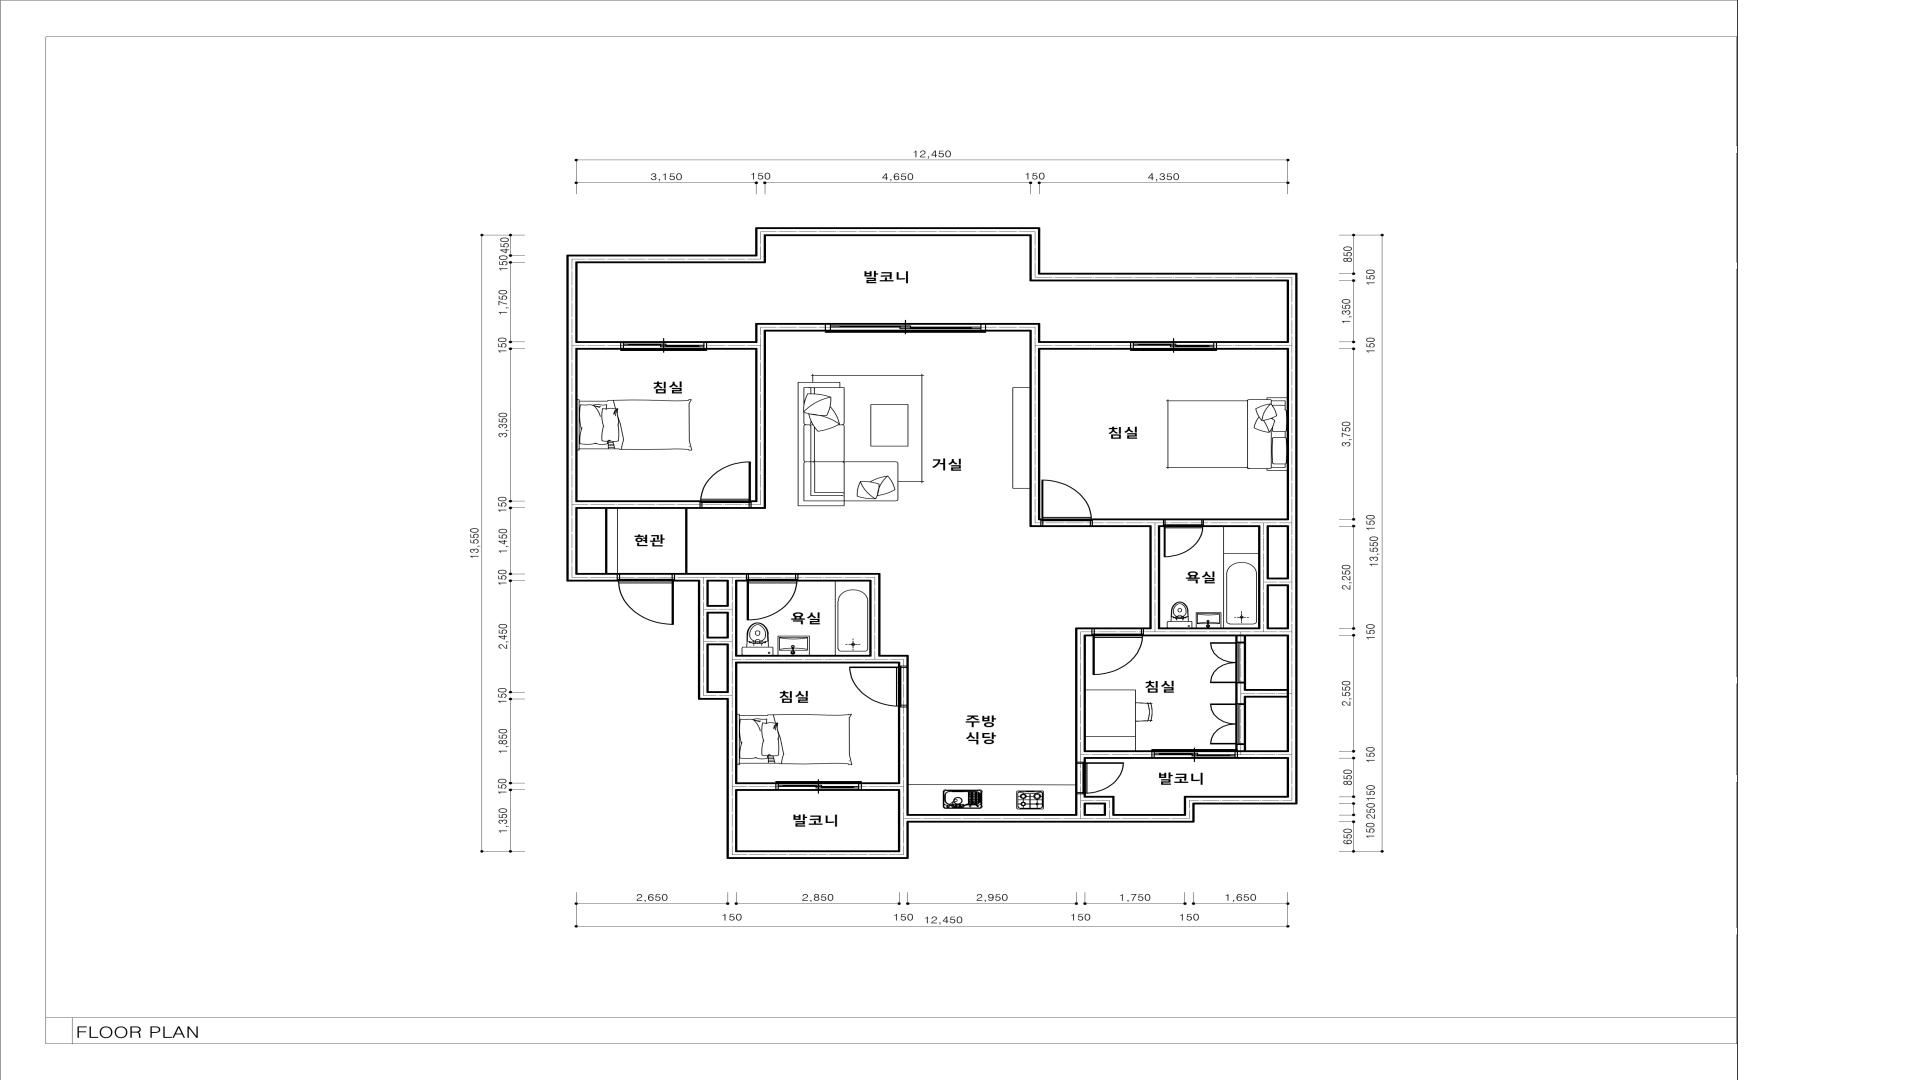door: (618, 573, 674, 625), (849, 666, 909, 707), (700, 461, 751, 509), (1092, 627, 1143, 675), (747, 573, 798, 620), (1041, 480, 1092, 527), (1075, 762, 1124, 794), (1164, 518, 1203, 557), (1209, 642, 1246, 683), (1210, 703, 1246, 745), (1131, 341, 1216, 351)
wall: (1287, 281, 1298, 804), (566, 263, 578, 573), (898, 814, 1184, 823), (766, 227, 1040, 236), (1029, 331, 1041, 527), (1040, 273, 1297, 281), (755, 332, 766, 500), (566, 255, 766, 263), (727, 691, 737, 850), (726, 850, 898, 859), (737, 655, 898, 664), (1075, 636, 1086, 762), (698, 573, 709, 691), (1143, 627, 1287, 636), (898, 707, 909, 814), (578, 500, 701, 509), (1258, 527, 1269, 627), (1149, 527, 1160, 627), (727, 582, 737, 691), (869, 582, 881, 655), (1184, 796, 1287, 804), (1040, 341, 1131, 350), (1203, 518, 1287, 527), (798, 573, 881, 582), (1092, 518, 1164, 527), (755, 323, 826, 332), (1216, 341, 1287, 350), (1086, 750, 1152, 759), (1029, 236, 1040, 281), (985, 323, 1040, 332), (566, 573, 618, 582), (1237, 750, 1287, 759), (706, 341, 755, 350), (898, 823, 909, 859), (578, 341, 621, 350), (1246, 689, 1287, 698), (737, 782, 776, 791), (709, 573, 747, 582), (861, 782, 898, 791), (755, 227, 766, 255), (698, 691, 727, 700), (1086, 796, 1115, 805), (1075, 793, 1086, 814), (1235, 683, 1246, 703), (674, 573, 698, 582), (1184, 804, 1195, 823), (709, 605, 727, 614), (1075, 627, 1092, 636), (1269, 578, 1287, 586), (709, 637, 727, 645), (751, 500, 766, 509), (898, 655, 909, 666), (1104, 804, 1115, 814), (1235, 636, 1246, 642), (1235, 745, 1246, 750)
window: (826, 323, 985, 333), (621, 341, 706, 351), (776, 781, 861, 791), (1152, 749, 1237, 759)
